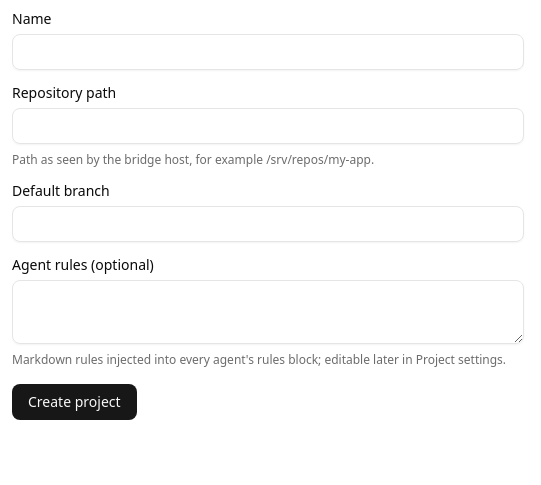
Test: CreateProjectForm › validates required fields locally and never posts an invalid payload
The image size is (541, 485).
Click the button "Create project": {"x": 74, "y": 402} [12, 384, 137, 420]
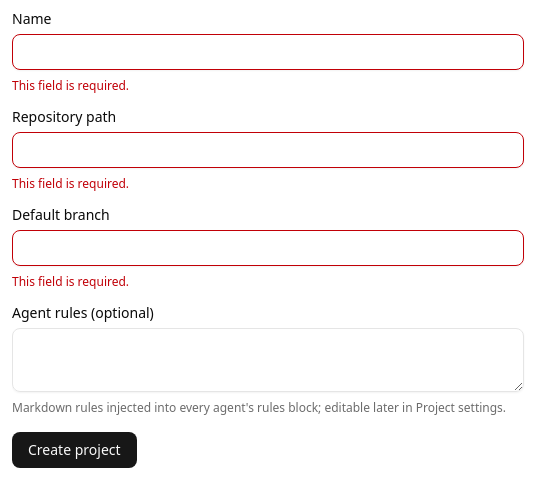
Check: the text "This field is required." below "Name" is shown, box [12, 77, 129, 94]
